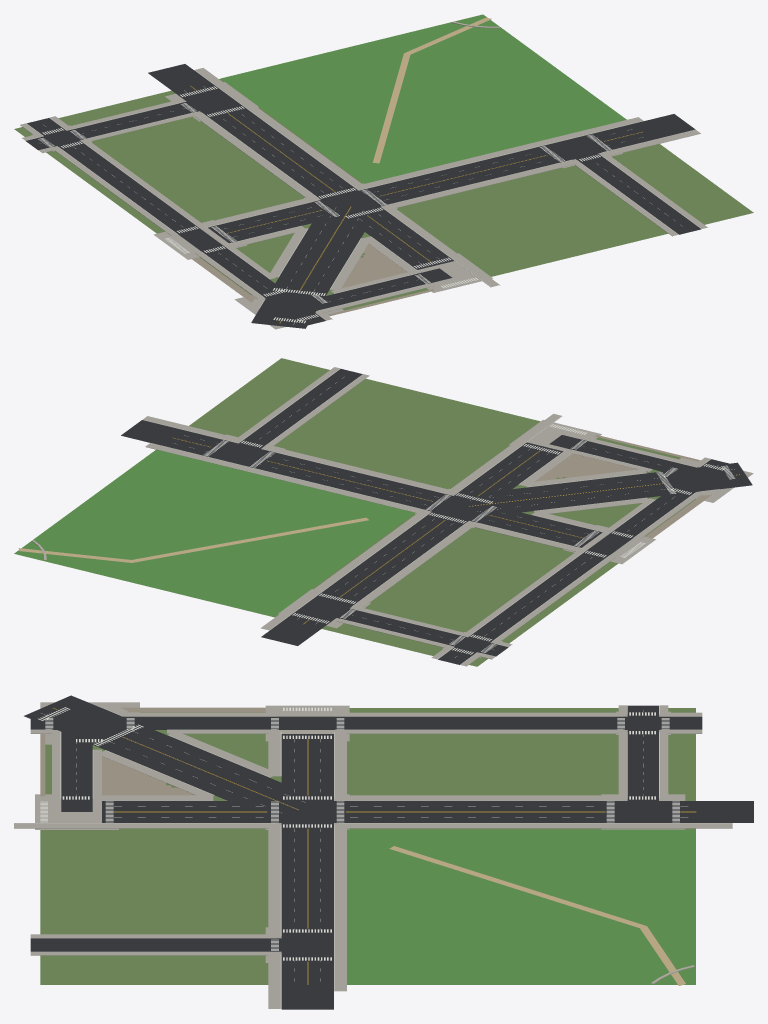
The model's file is Ground_5_5.fbx.
3 views of the same model, one above another, from view 1: azimuth 30°, elevation 25°; view 2: azimuth 150°, elevation 25°; view 3: azimuth 270°, elevation 25° (orthographic). The views are drawn at different scales.
Parts seen in each view (by area): view 1: Ground_5_5; view 2: Ground_5_5; view 3: Ground_5_5.
Part boxes in pixels (x1,y1,x2,y2): Ground_5_5: (14, 14, 753, 329); Ground_5_5: (14, 358, 753, 666); Ground_5_5: (14, 695, 753, 1009).
Bounding box in the file's own units: 283 × 0.4 × 282.
